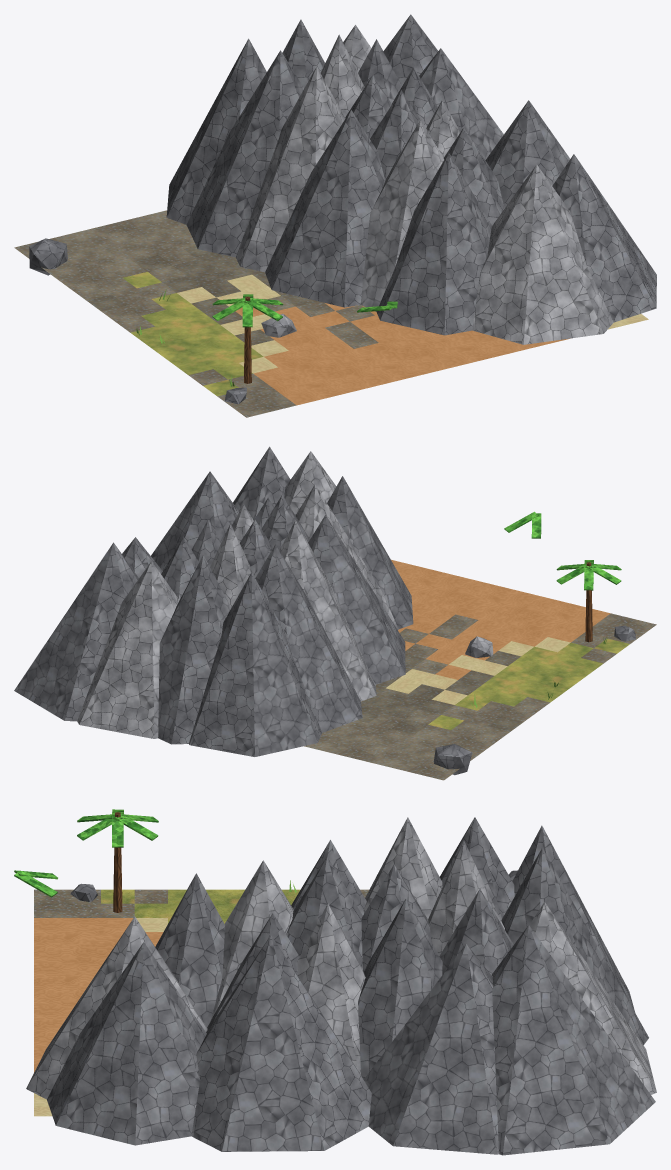
The model's file is chunk_10_20.glb.
3 renders of one model, top to bottom at view 1: azimuth 30°, elevation 25°; view 2: azimuth 150°, elevation 25°; view 3: azimuth 270°, elevation 25°, orthographic. The views are drawn at different scales.
Parts seen in each view (by area): view 1: chunk_10_20; view 2: chunk_10_20; view 3: chunk_10_20.
Part boxes in pixels (x1,y1,x2,y2): chunk_10_20: [14, 14, 656, 417]; chunk_10_20: [14, 446, 656, 780]; chunk_10_20: [14, 809, 656, 1155].
Bounding box in the file's own units: 18.99 × 7.33 × 19.17.
Materials: 10 (9 with a texture image).
